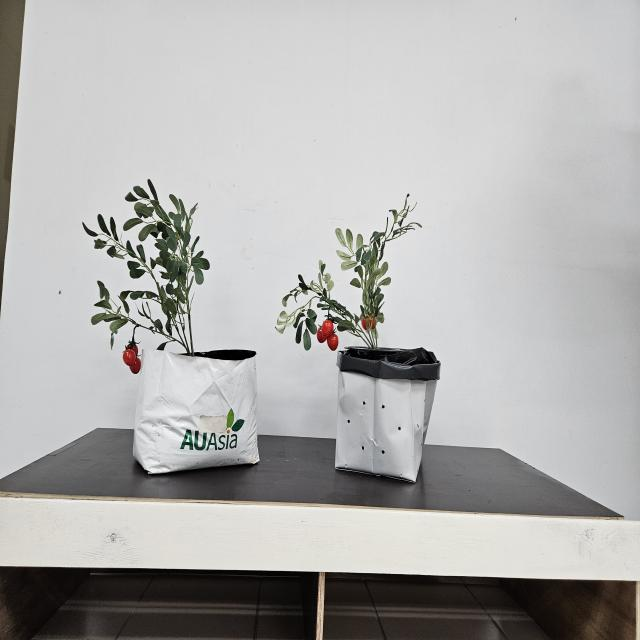Soilbag: (132, 351, 260, 477), (334, 348, 440, 486)
Tomato: (314, 317, 340, 352), (120, 343, 142, 375)
plant: (82, 179, 210, 375), (275, 195, 422, 351)
